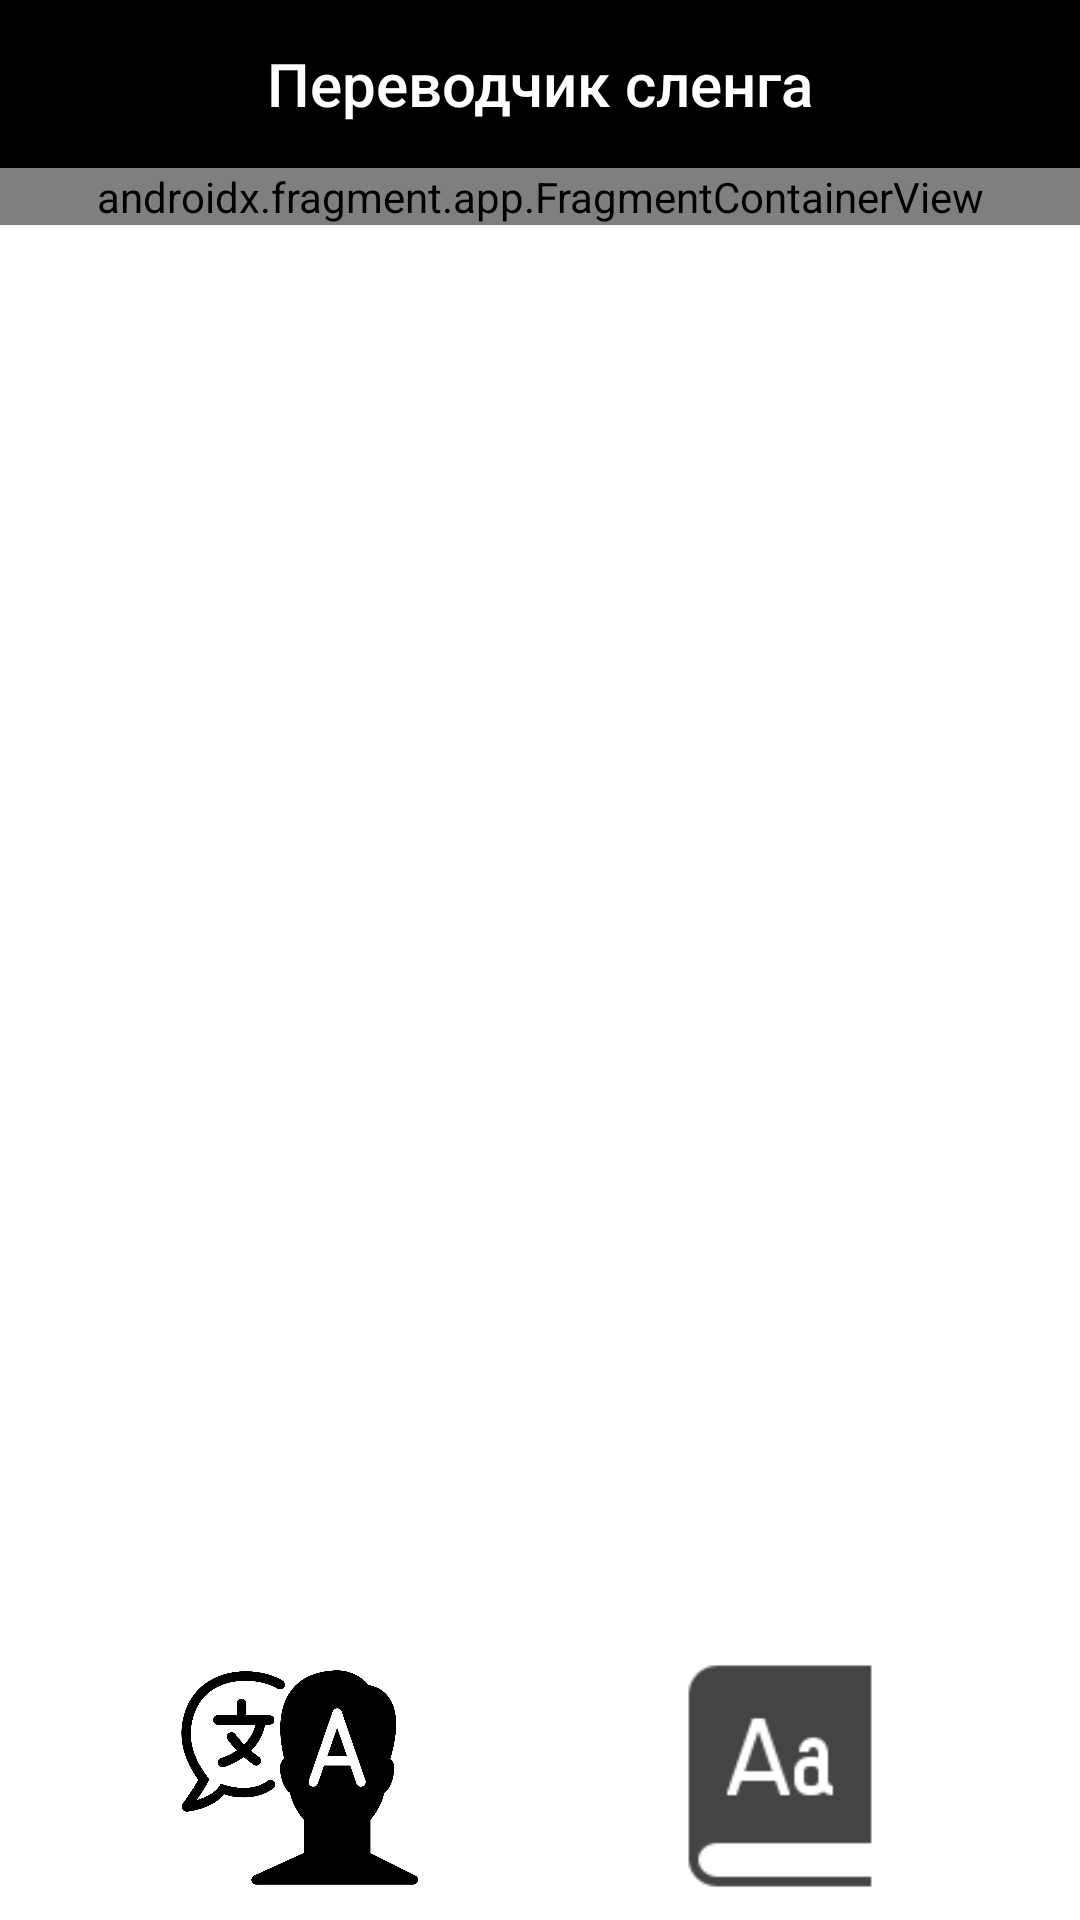

Icon click points for this 1080px×1920px phone screenshot, format (x=x, y=y):
Переводчик: (x=299, y=1777)
Словарь: (x=780, y=1776)
